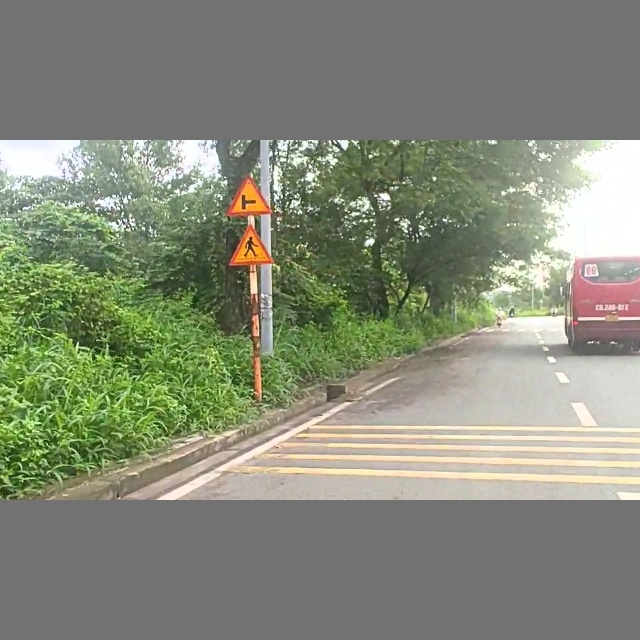W.205c: (215, 173, 270, 217)
W.224: (224, 223, 273, 268)
